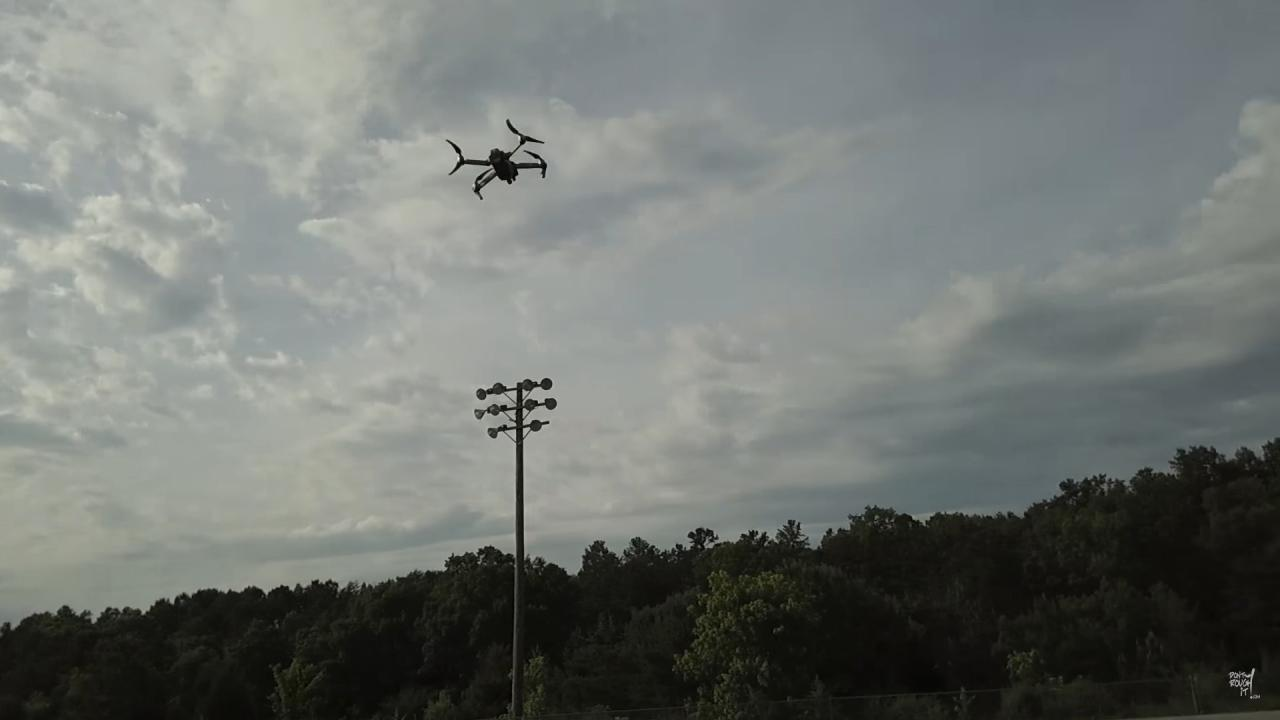Drone: (426, 108, 558, 213)
